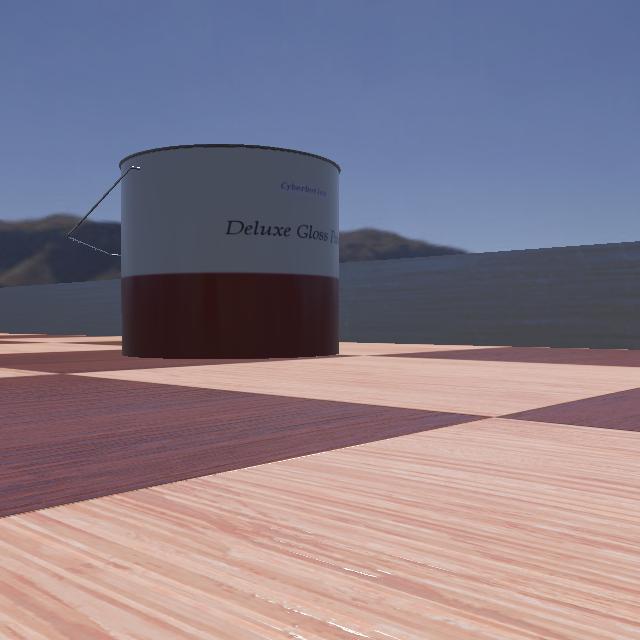paint-bucket: (24, 144, 344, 360)
